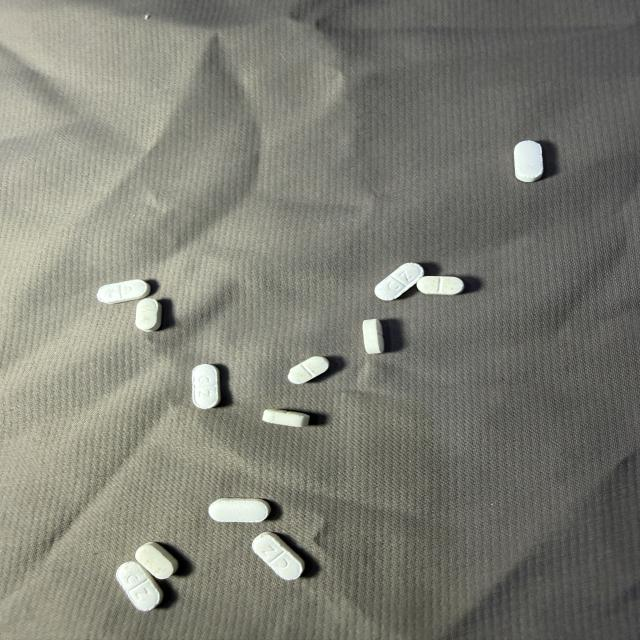pill: (253, 532, 304, 580), (116, 561, 162, 611), (375, 263, 423, 300), (136, 542, 178, 579), (209, 499, 270, 522), (192, 364, 220, 409), (97, 280, 150, 303), (514, 141, 543, 182), (288, 357, 329, 384), (136, 298, 161, 332), (417, 276, 463, 294), (263, 410, 309, 427), (362, 319, 384, 354)
